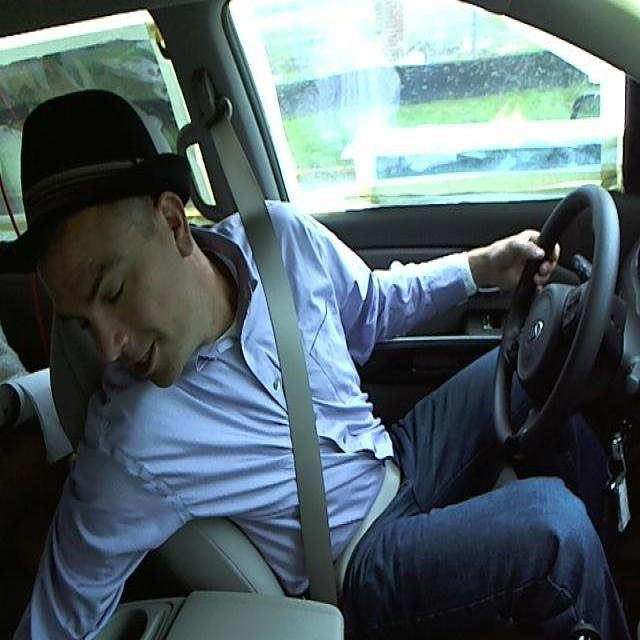seatbelt: (224, 203, 401, 597)
